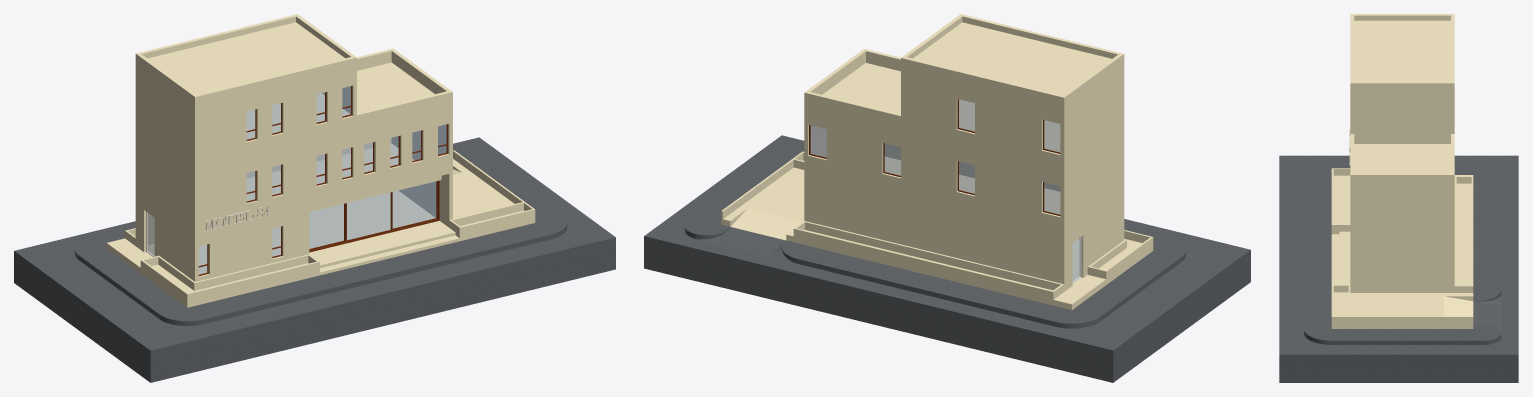
3 renders of one model, left to right at view 1: azimuth 30°, elevation 25°; view 2: azimuth 150°, elevation 25°; view 3: azimuth 270°, elevation 25°, orthographic. The views are drawn at different scales.
Visible parts, largest first — view 1: 31591, 19901, 17706, 17278, 19432, 20059, Component#2; view 2: 31591, 19901, 19432, 17706, 17278, 20059, W2 (×6), 32857; view 3: 31591, 19901, 17278, 20059, 17706, 19432, 32857.
Boxes of the visible parts, x1,y1,x2,y2 form: 31591: (14,137,615,382); 19901: (135,14,452,166); 17706: (135,103,452,227); 17278: (106,150,535,307); 19432: (135,136,452,281); 20059: (147,22,344,94); Component#2: (309,180,439,252); 31591: (644,135,1250,382); 19901: (804,14,1124,167); 19432: (804,143,1124,291); 17706: (804,104,1124,229); 17278: (721,151,1153,309); 20059: (913,22,1111,95); W2 (×6): (809,99,1060,215); 32857: (714,227,785,256); 31591: (1279,155,1518,382); 19901: (1350,14,1454,184); 17278: (1331,168,1473,328); 20059: (1354,20,1450,81); 17706: (1350,185,1454,238); 19432: (1350,239,1454,292); 32857: (1473,301,1501,328).
Size of the model in its own units: 25.27 by 12.22 by 12.85.
Materials: 962 (169 with a texture image).
